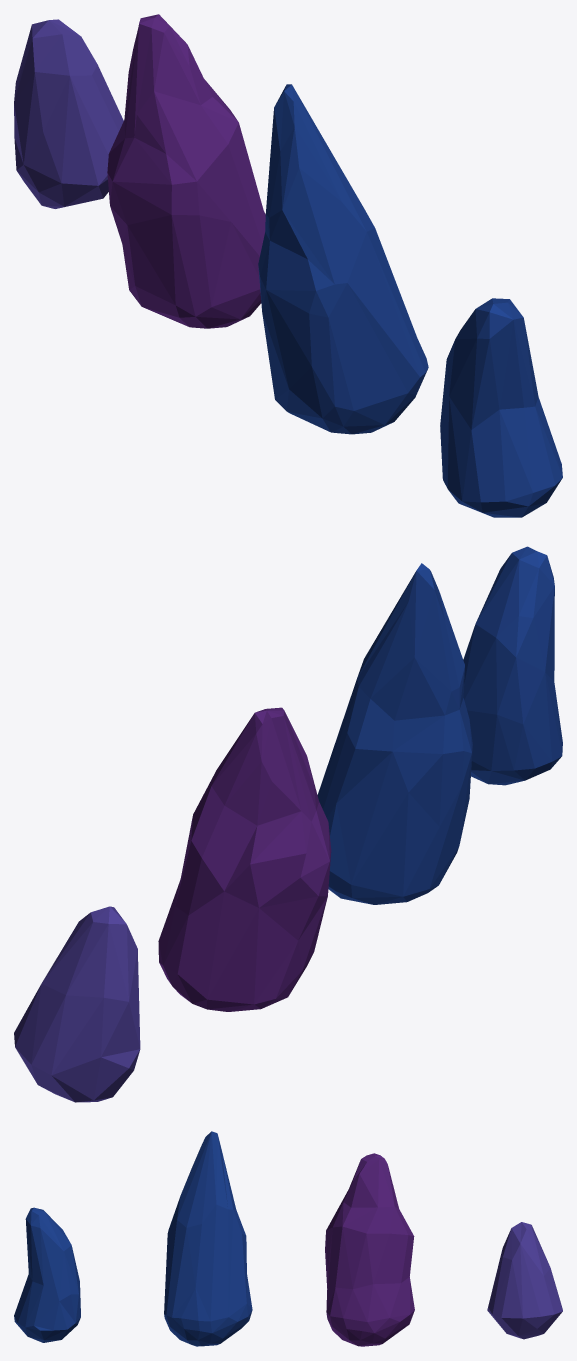
The model's file is Stone.fbx.
3 renders of one model, top to bottom at view 1: azimuth 30°, elevation 25°; view 2: azimuth 150°, elevation 25°; view 3: azimuth 270°, elevation 25°, orthographic. The views are drawn at different scales.
Visible parts, largest first — view 1: Sphere, Sphere.001, Sphere.002, Sphere.003; view 2: Sphere.001, Sphere, Sphere.002, Sphere.003; view 3: Sphere, Sphere.001, Sphere.002, Sphere.003.
Boxes of the visible parts, box(x1,y1,x2,y2) form: Sphere: box(258, 84, 428, 434); Sphere.001: box(107, 14, 265, 328); Sphere.002: box(440, 298, 562, 517); Sphere.003: box(14, 19, 123, 208); Sphere.001: box(158, 707, 331, 1011); Sphere: box(317, 563, 472, 904); Sphere.002: box(463, 546, 562, 785); Sphere.003: box(14, 906, 140, 1102); Sphere: box(164, 1131, 252, 1346); Sphere.001: box(325, 1153, 414, 1346); Sphere.002: box(14, 1207, 80, 1342); Sphere.003: box(487, 1222, 562, 1339).
Bounding box in the file's own units: 316 × 649 × 1656.
